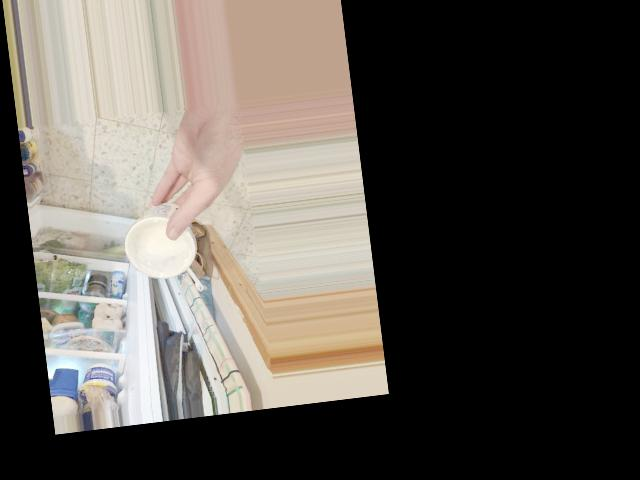cotage: (127, 193, 205, 286)
